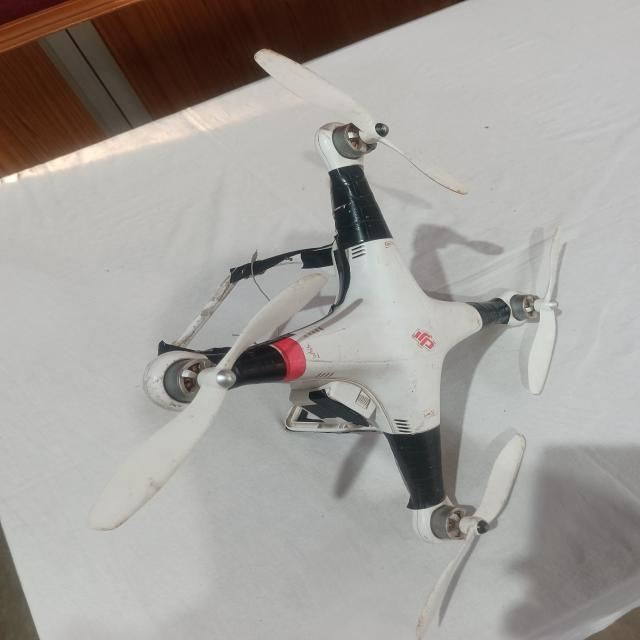drone: (121, 66, 599, 574)
